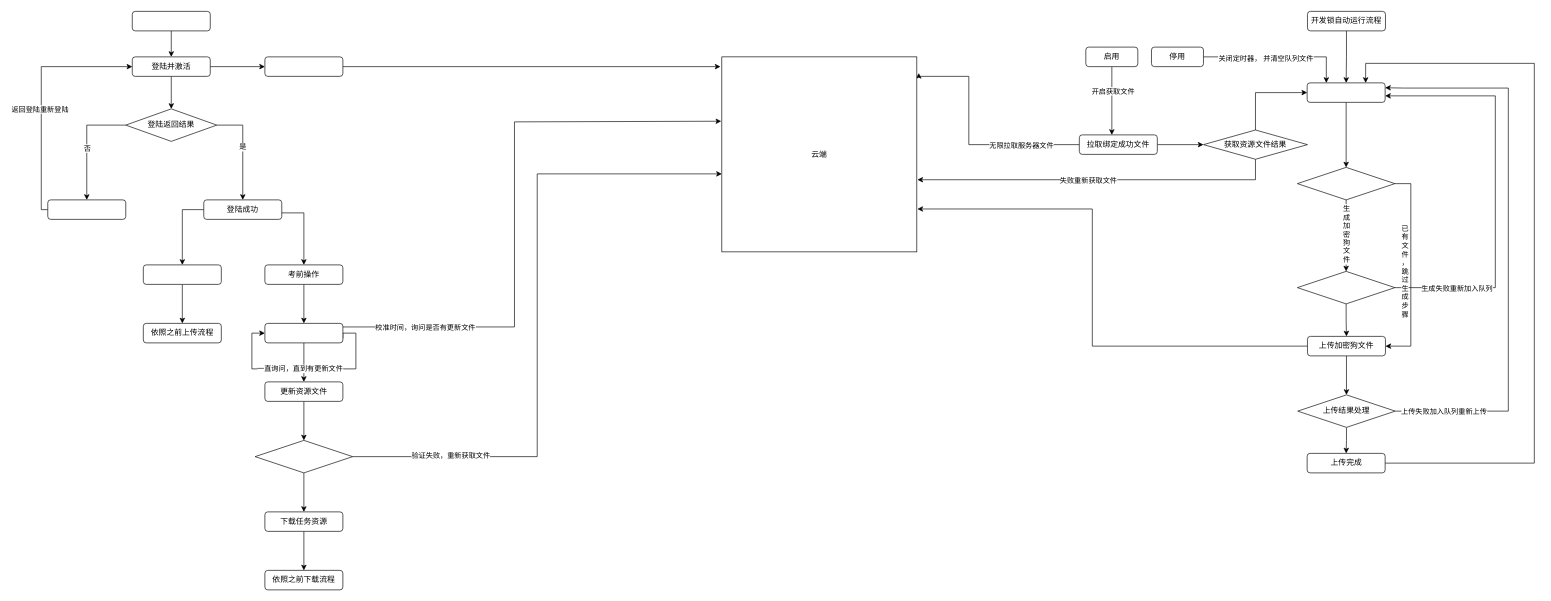
The diagram is 1551 pixels wide and 601 high, and some of its shapes have lost their labels. Here are the shapes that lost their labels. From the top down, the centre of each, then its label:
At point (171, 21): "用户锁".
At point (303, 66): "激活kId发送".
At point (1345, 92): "文件队列(Queue)".
At point (1346, 183): "查看文件状态".
At point (86, 209): "登陆失败".
At point (182, 274): "考后操作".
At point (1346, 287): "生成加密狗文件".
At point (303, 333): "校准时间".
At point (303, 456): "验证资源文件 完整性，合法性".
